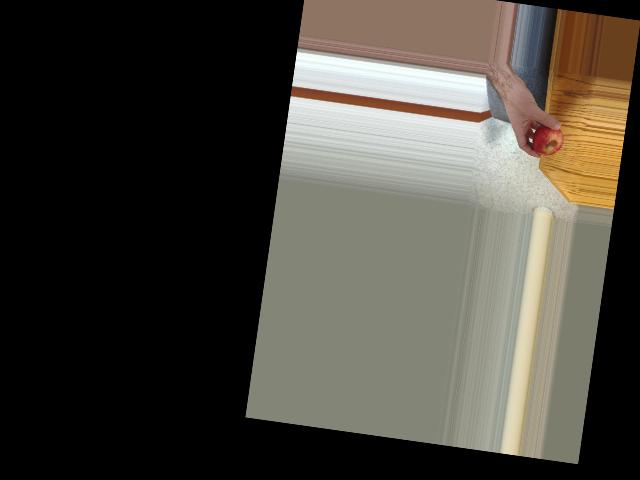apple: (528, 119, 567, 158)
